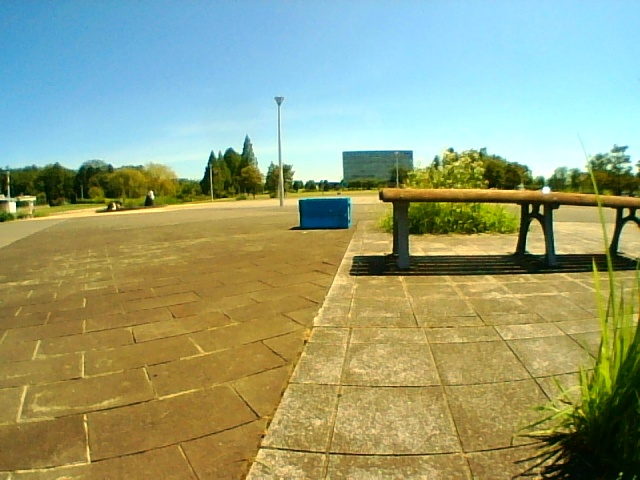blue_box: (300, 197, 350, 230)
tag: (348, 206, 349, 221)
